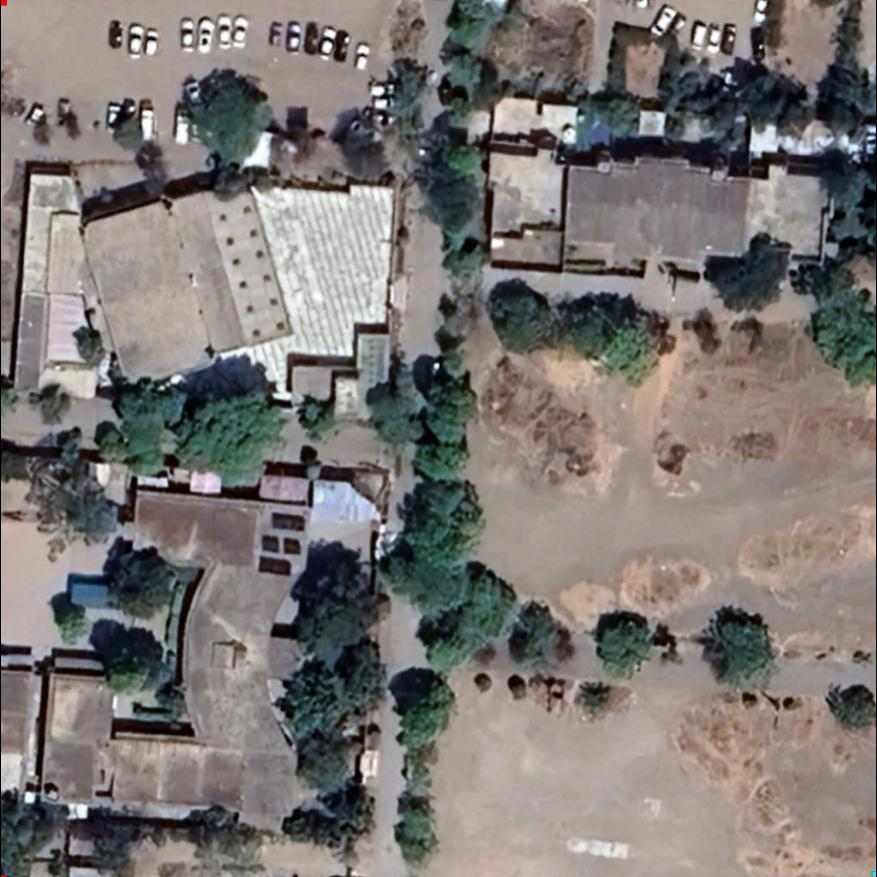Solarpanel: (256, 532, 308, 558), (252, 554, 298, 581), (267, 509, 309, 533)
